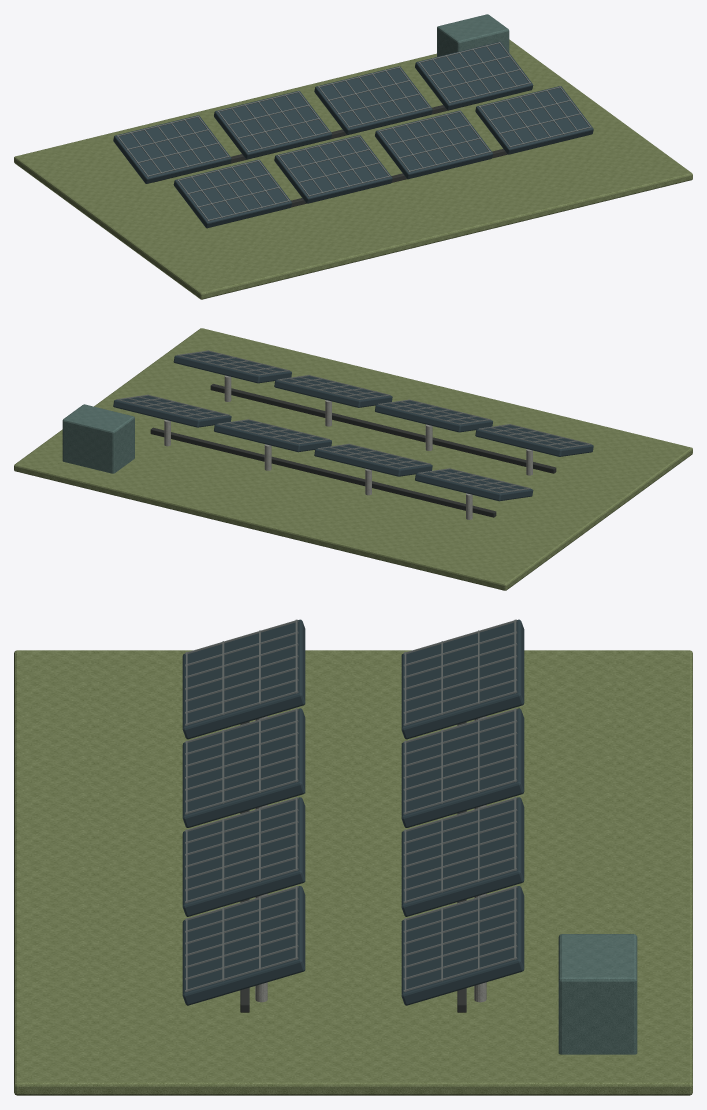
File: UTIL_SOLAR_3x2_001.glb
3 renders of one model, top to bottom at view 1: azimuth 30°, elevation 25°; view 2: azimuth 150°, elevation 25°; view 3: azimuth 270°, elevation 25°, orthographic. The views are drawn at different scales.
Visible parts, largest first — view 1: UTIL_SOLAR_3x2_001_Visual; view 2: UTIL_SOLAR_3x2_001_Visual; view 3: UTIL_SOLAR_3x2_001_Visual.
Part boxes in pixels (x1,y1,x2,y2): UTIL_SOLAR_3x2_001_Visual: (14, 14, 692, 299); UTIL_SOLAR_3x2_001_Visual: (14, 328, 692, 590); UTIL_SOLAR_3x2_001_Visual: (14, 619, 692, 1095).
Size of what is drawn, in the model's own units: 5.88 by 0.5721 by 3.88.
Materials: 6 (3 with a texture image).
